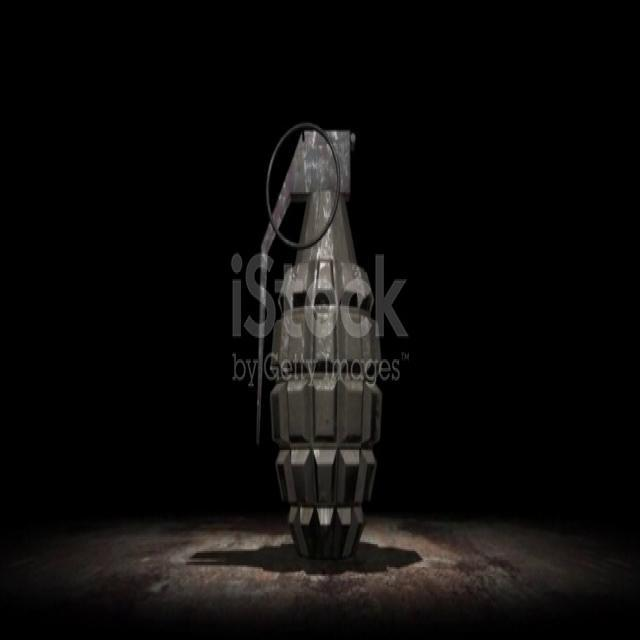grenade: (256, 117, 381, 569)
